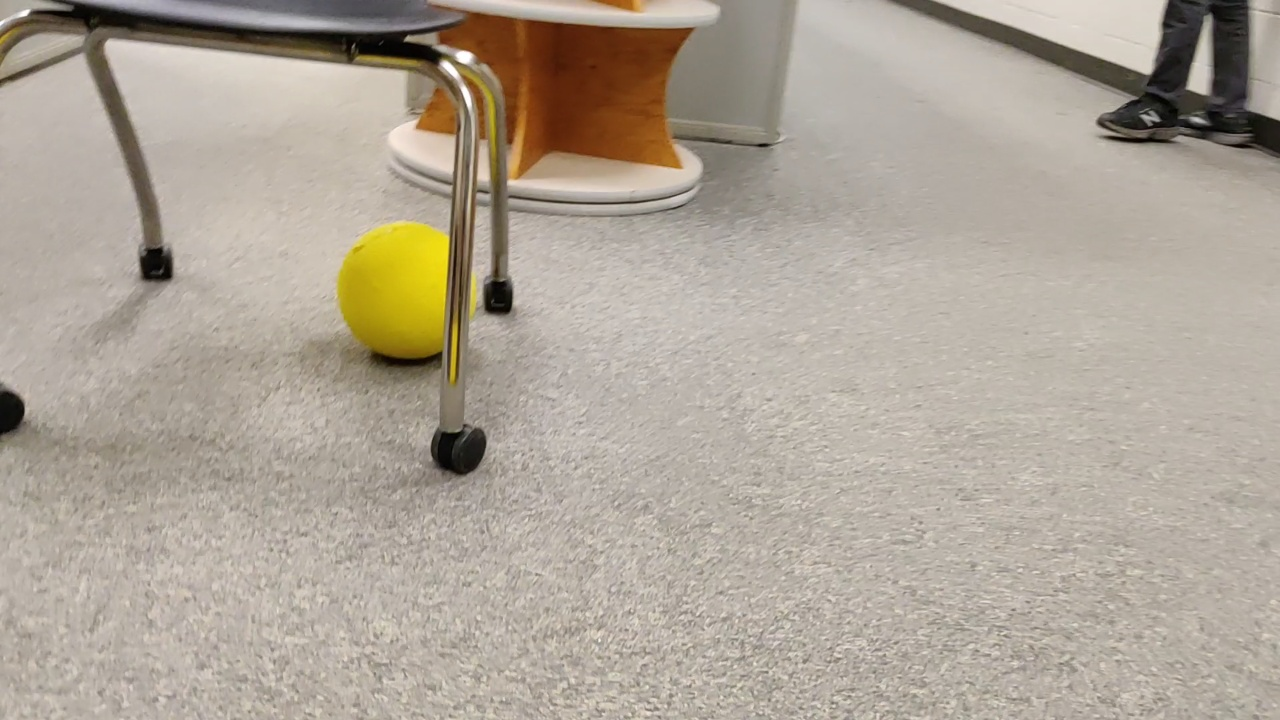Ball: (337, 222, 466, 351)
